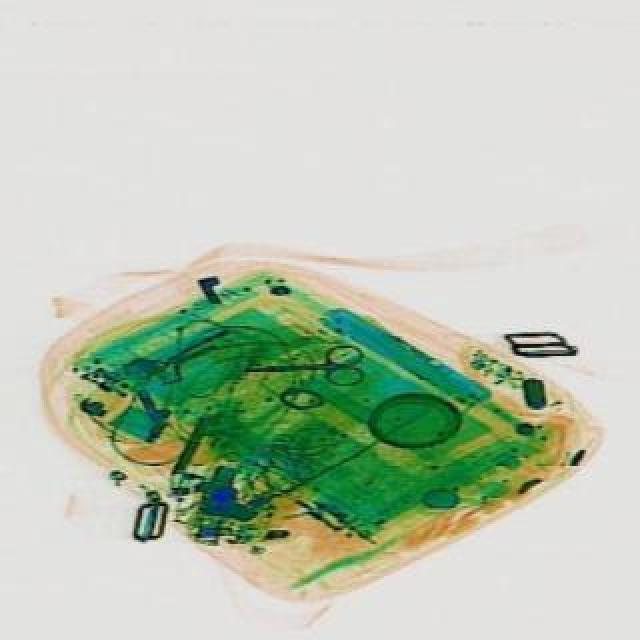pliers: (246, 340, 370, 388)
